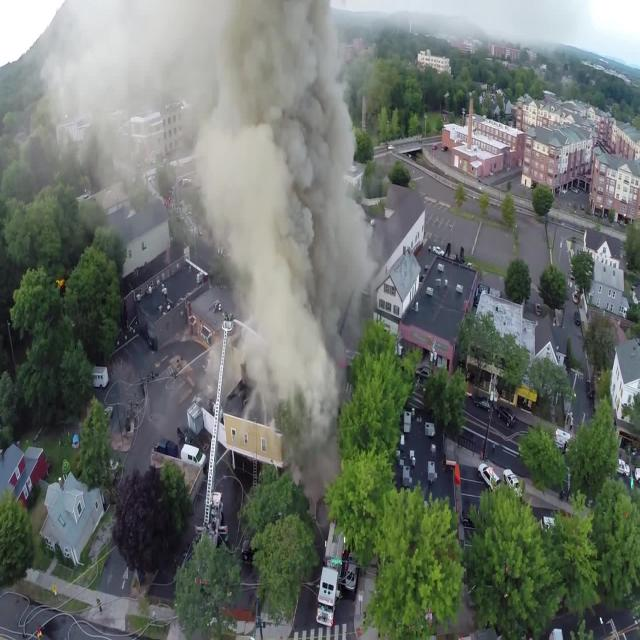Smoke: (44, 0, 372, 498)
